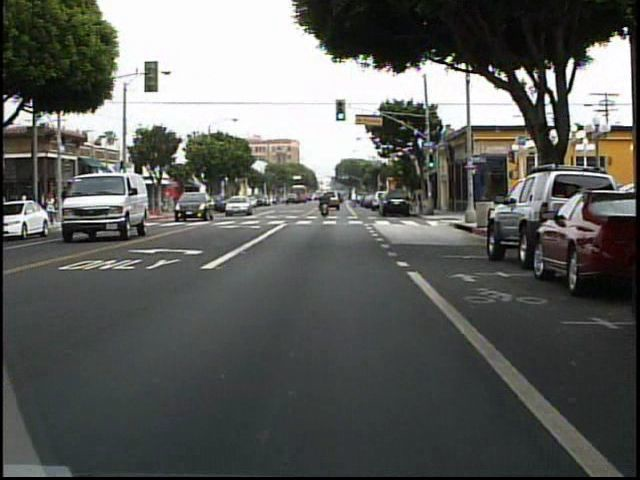person: (45, 190, 61, 230), (74, 189, 88, 221), (320, 189, 334, 219), (89, 190, 101, 221)
